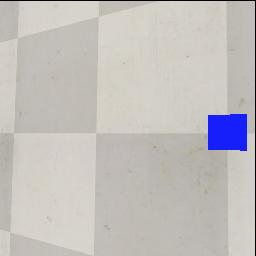box: (208, 114, 247, 151)
